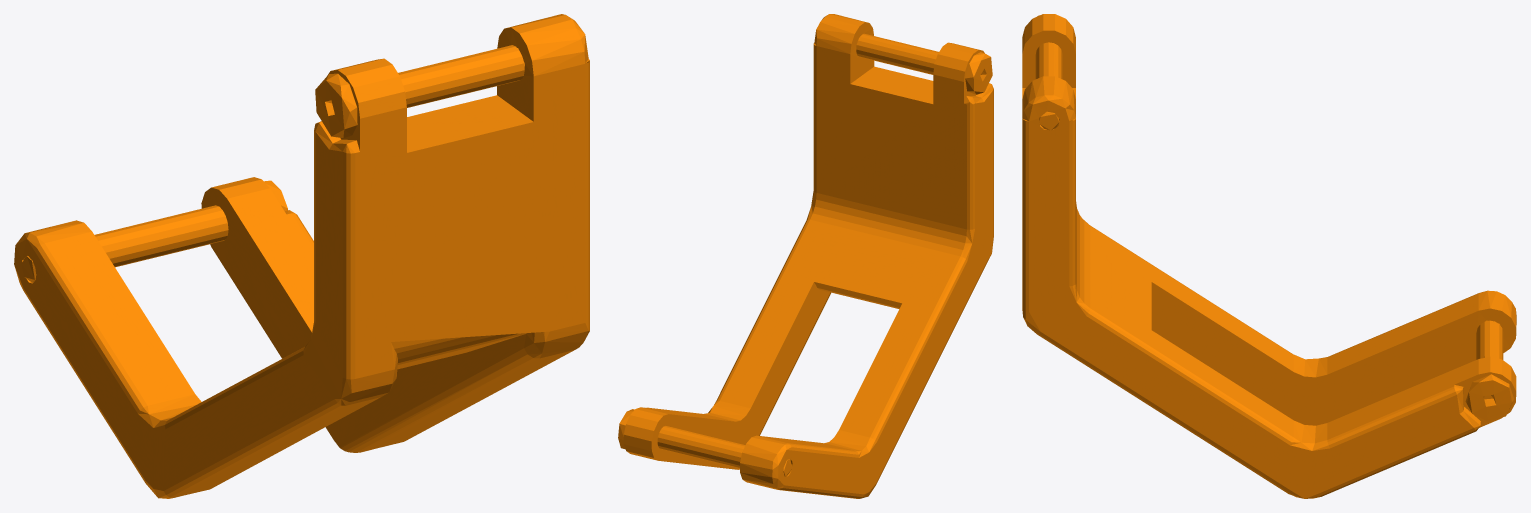
Rendered from inner_single.dae.
The picture shows the model from 3 angles, left to right: view 1: azimuth 30°, elevation 25°; view 2: azimuth 150°, elevation 25°; view 3: azimuth 270°, elevation 25°; orthographic projection. The views are drawn at different scales.
Visible parts, largest first — view 1: node; view 2: node; view 3: node.
Part boxes in pixels (x1,y1,x2,y2): node: (14, 14, 589, 498); node: (618, 14, 993, 498); node: (1022, 14, 1516, 498).
Size of the model in its own units: 0.0312 by 0.0664 by 0.0735.
1 material, 1 textured.
